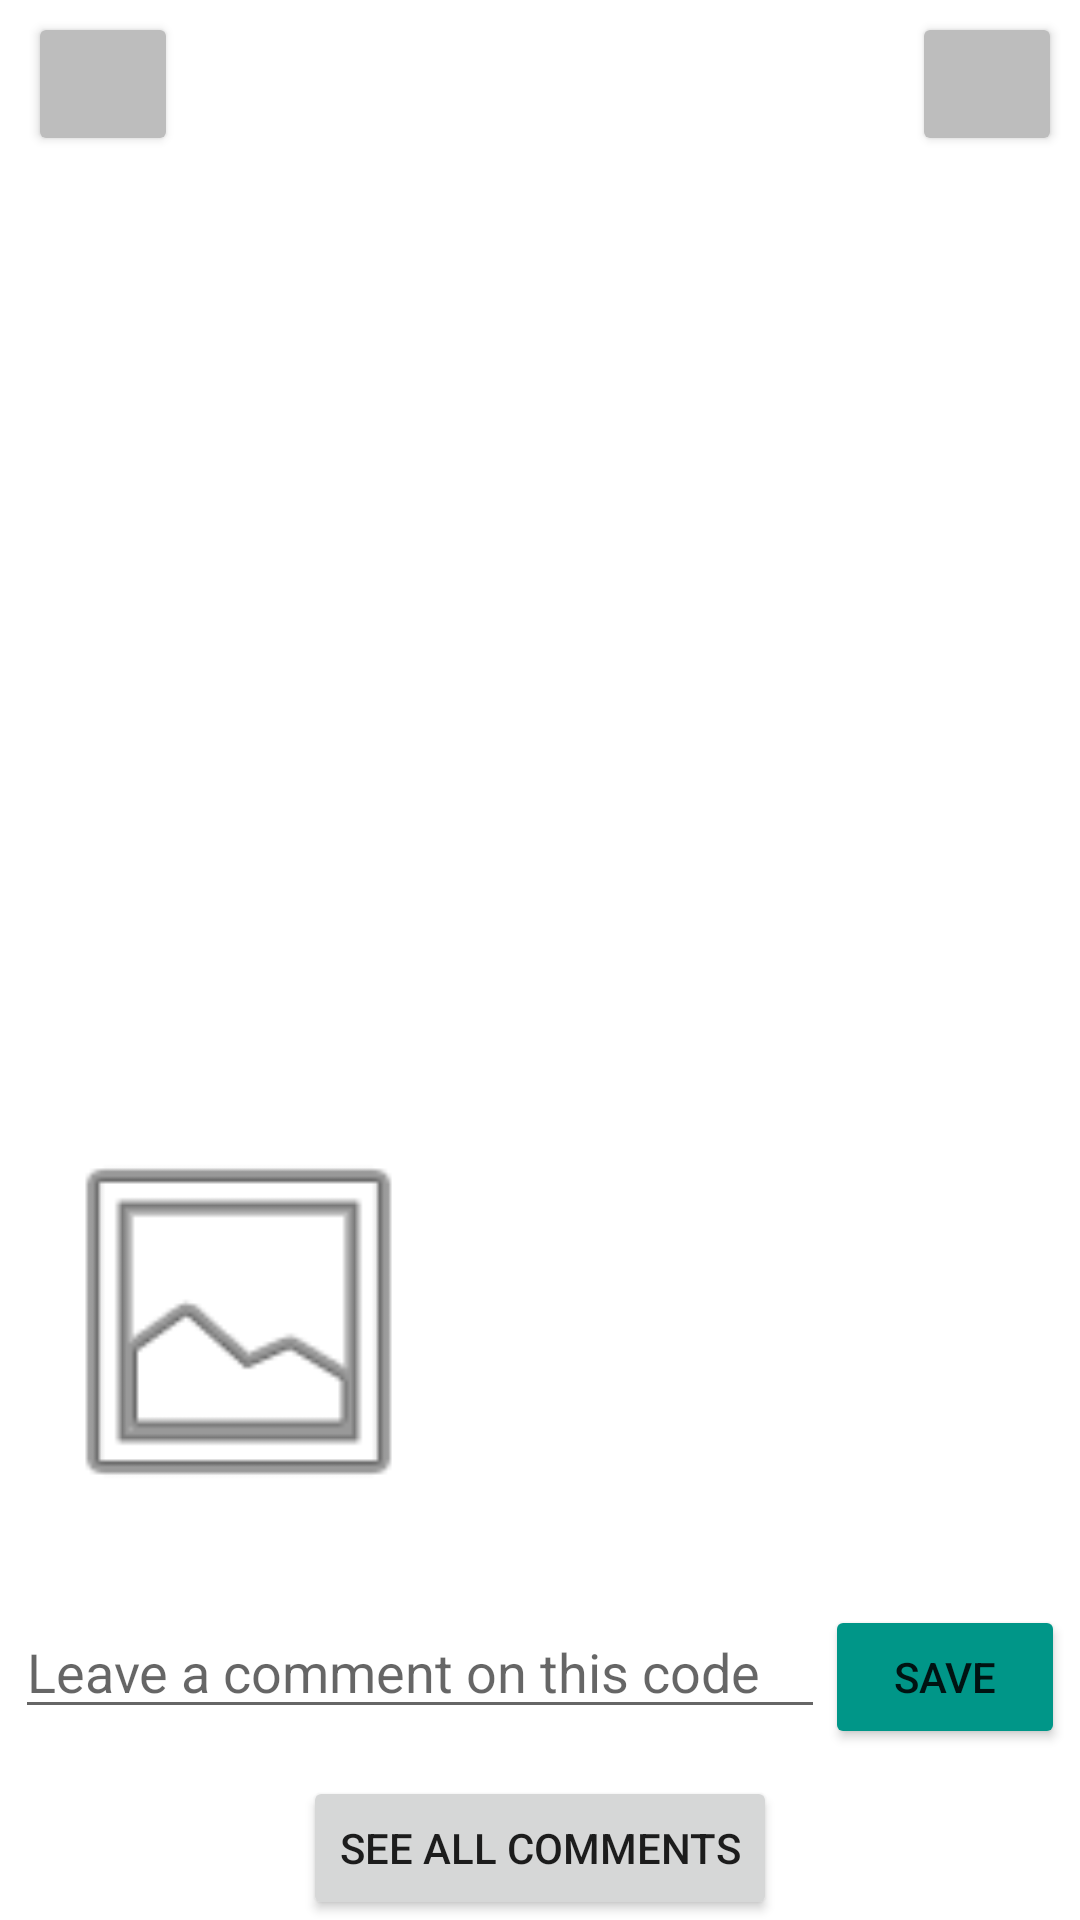

Named icons in this screenshot (1080px x 1920px) and their bounding boxes, box(x1, y1, x2, y2):
gallery: box(86, 1168, 391, 1475)
